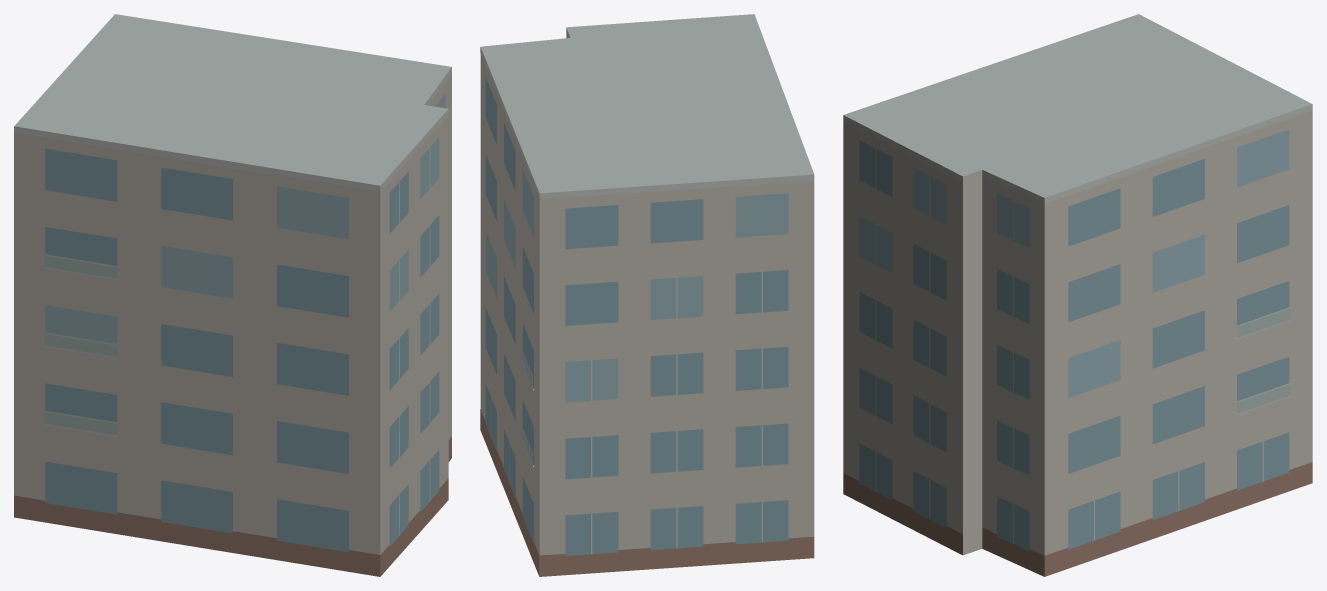
File: survey-upis-32844005.glb
3 views of the same model, side by side, from view 1: azimuth 30°, elevation 25°; view 2: azimuth 150°, elevation 25°; view 3: azimuth 270°, elevation 25° (orthographic). The views are drawn at different scales.
Parts seen in each view (by area): view 1: survey-upis-32844005.tmp; view 2: survey-upis-32844005.tmp; view 3: survey-upis-32844005.tmp.
Boxes of the visible parts, left/top/right/bottom form: survey-upis-32844005.tmp: left=14, top=14, right=451, bottom=576; survey-upis-32844005.tmp: left=480, top=14, right=814, bottom=576; survey-upis-32844005.tmp: left=843, top=14, right=1312, bottom=576.
Size of the model in its own units: 15.88 by 15.25 by 17.13.
